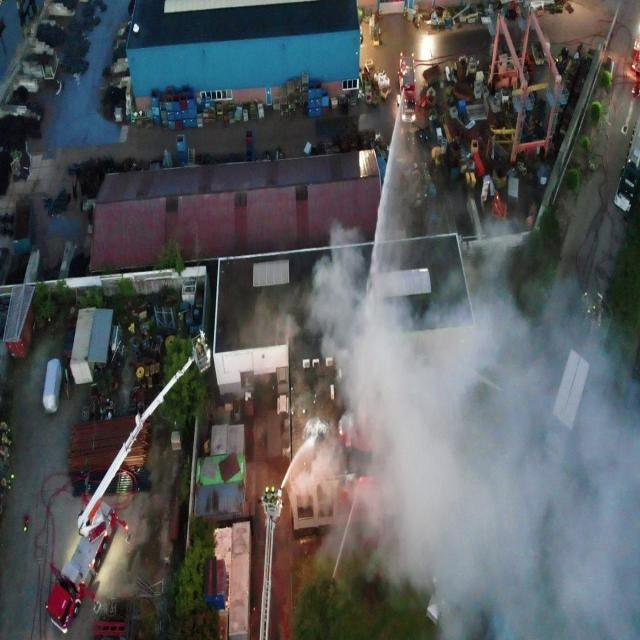Fire: (338, 430, 344, 434)
Smoke: (290, 218, 640, 640), (239, 290, 301, 350)
